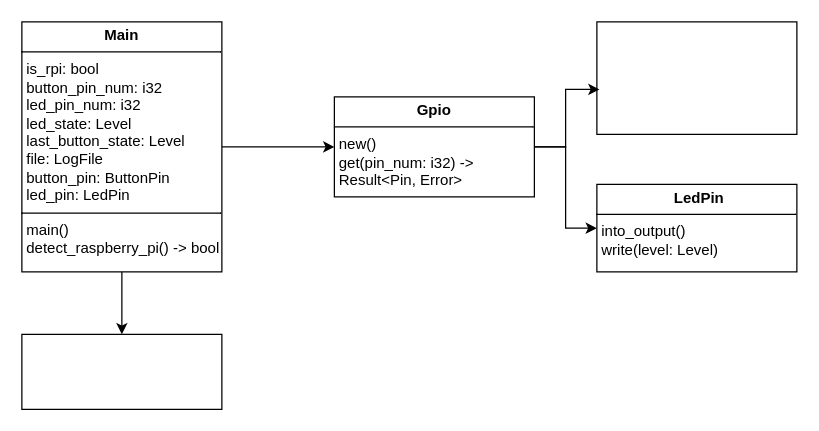
The diagram is 819 pixels wide and 431 high, and some of its shapes have lost their labels. The shapes that lost their labels are listed below. From the top down, each one's box as (x1, y1, x2, y2) in pixels, then its label:
(596, 21, 797, 134): ButtonPin into_input_pullup() read() -> Level is_low() -> bool
(21, 333, 222, 409): LogFile write_all(data: &[u8]) open(filename: &str)
